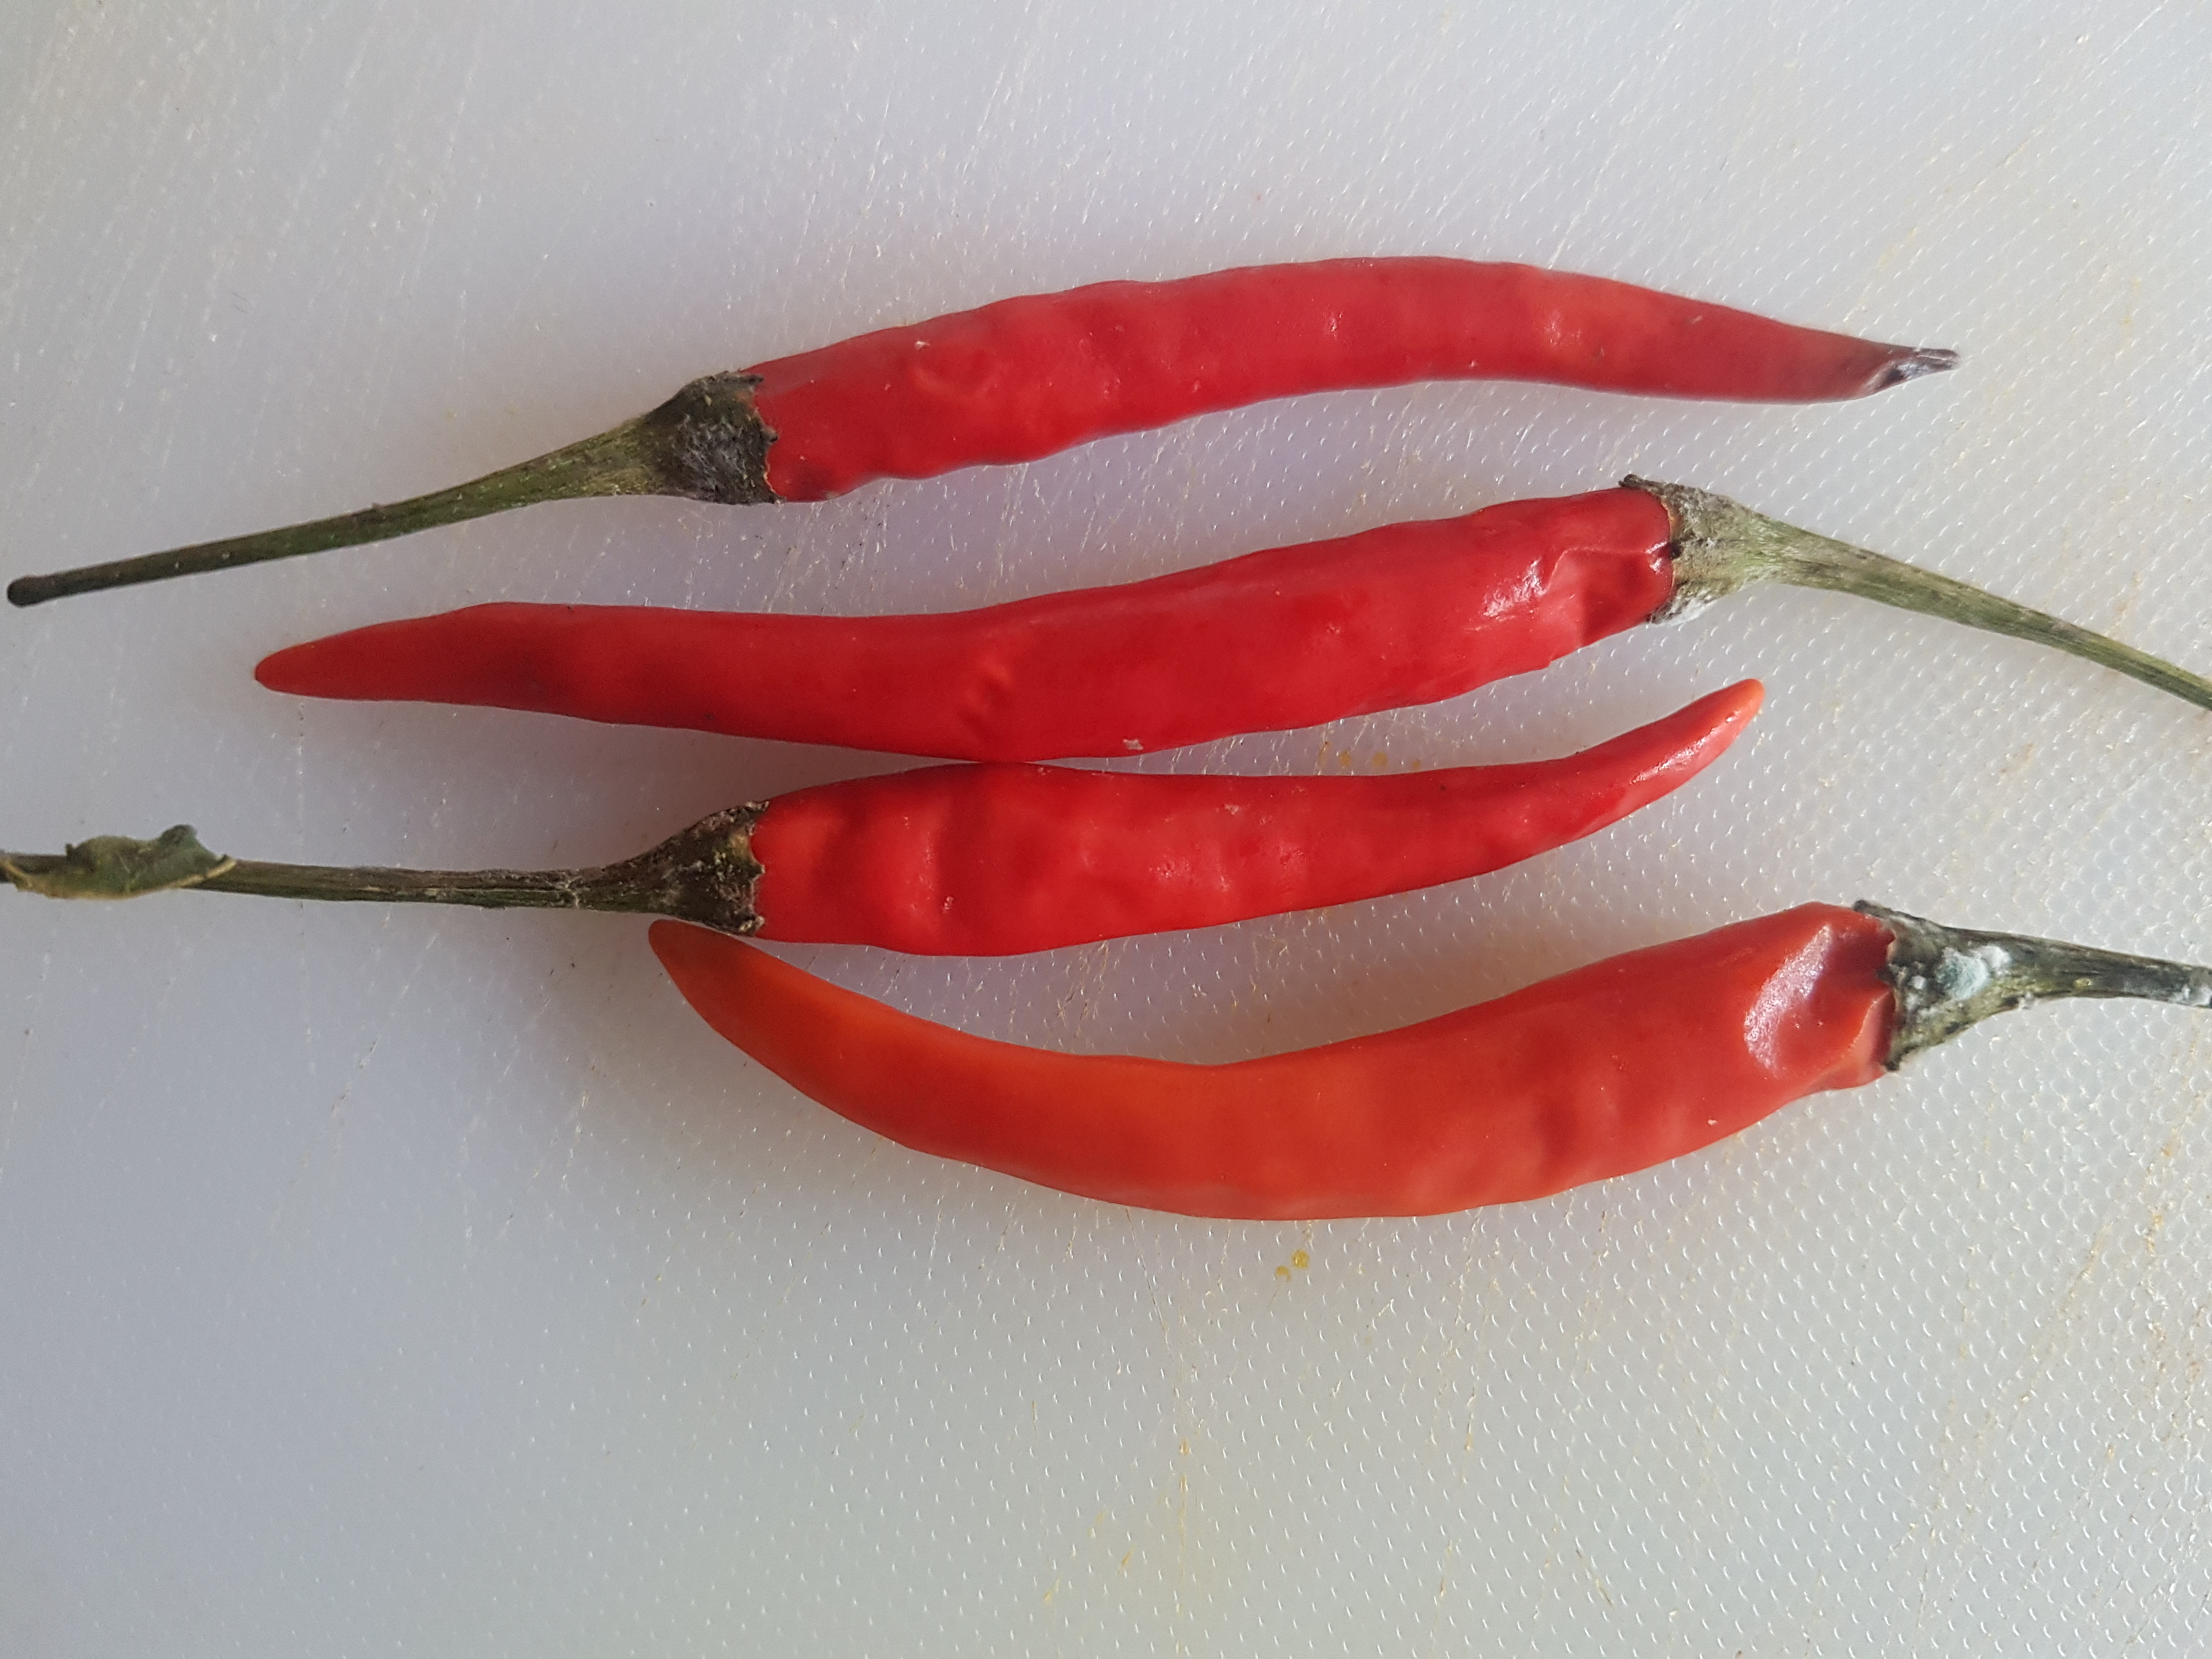Cayenne pepper: (0, 246, 2205, 1220)
